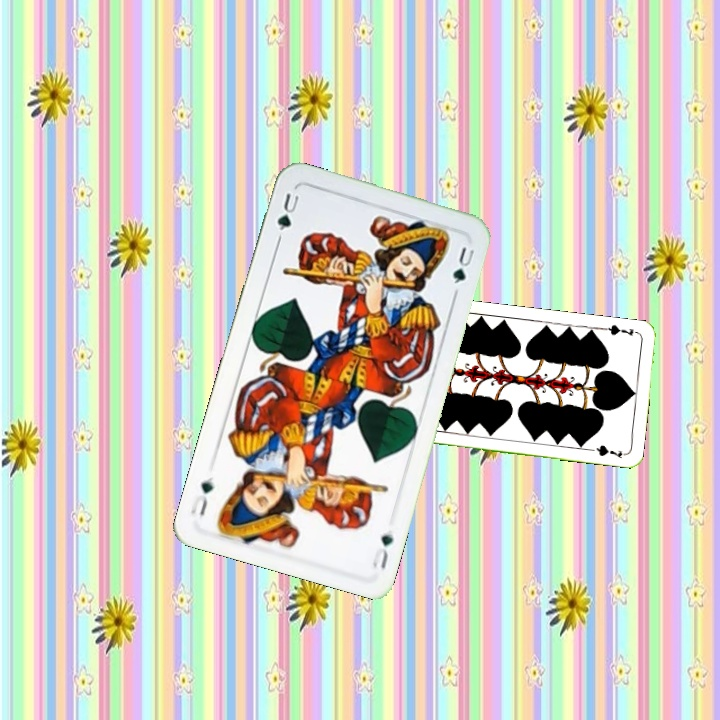G7: (600, 321, 641, 339)
GU: (273, 189, 302, 243), (368, 529, 396, 572)
